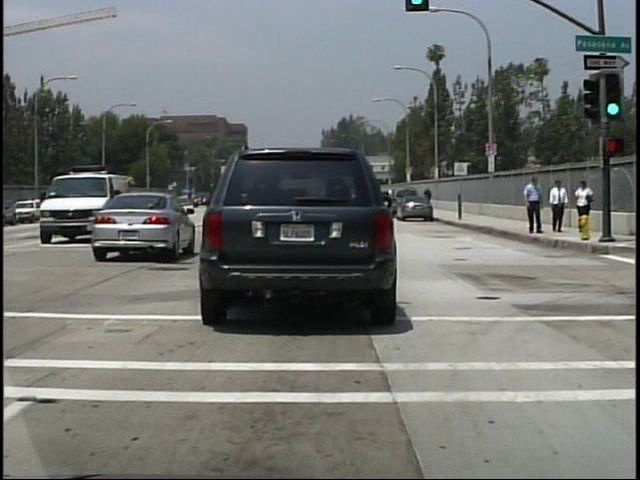person: (522, 175, 544, 237), (547, 180, 569, 234), (571, 180, 594, 216), (423, 186, 433, 211)
